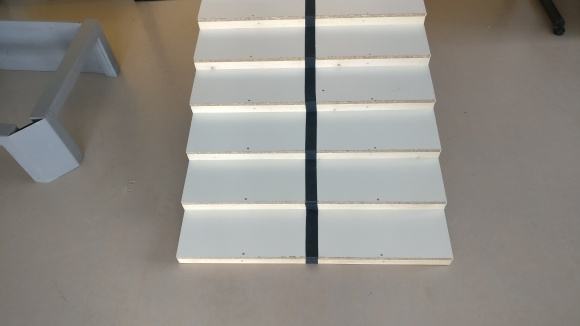stairs: (173, 1, 458, 269)
